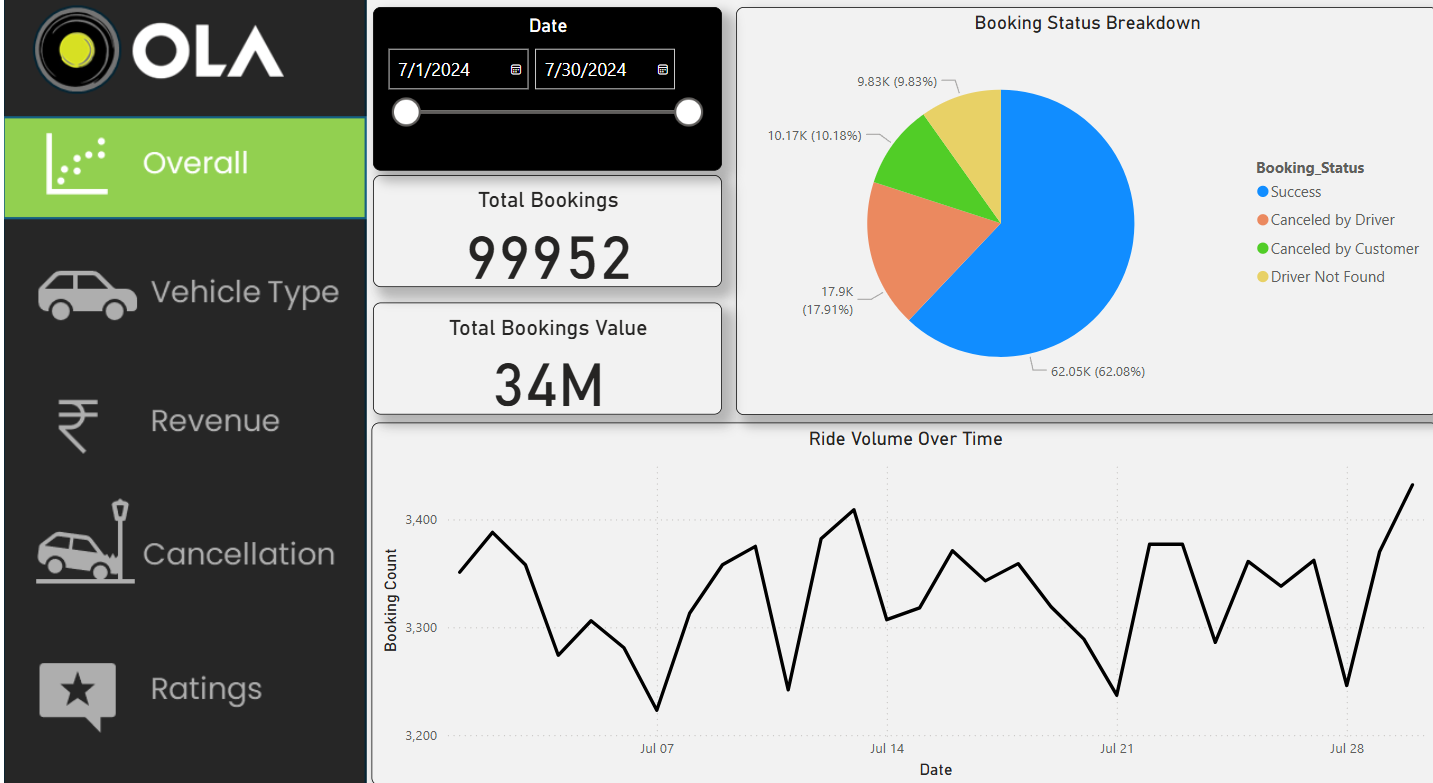

What the dashboard file says about the page in this screenshot:
{"tool":"powerbi","page":{"name":"Overall","canvas":[1280,720],"ordinal":0},"visuals":[{"type":"actionButton","box":[1.6,201.9,327.4,125.6],"z":0},{"type":"lineChart","title":"Ride Volume Over Time","fields":{"Category":["July.Date"],"Y":["CountNonNull(July.Booking_ID)"]},"box":[327.4,384.6,952.1,324.2],"z":1000},{"type":"pieChart","title":"Booking Status Breakdown","fields":{"Category":["July.Booking_Status"],"Y":["CountNonNull(July.Booking_Status)"]},"box":[653.2,12.7,626.2,364],"z":2000},{"type":"slicer","title":"Date","fields":{"Values":["July.Date"]},"box":[329,12.7,311.5,146.2],"z":3000},{"type":"card","title":"Total Bookings","fields":{"Values":["Count(July.Booking_ID)"]},"box":[329,163.7,311.5,100.1],"z":4000},{"type":"card","title":"Total Bookings Value","fields":{"Values":["Sum(July.Booking_Value)"]},"box":[329,276.6,311.5,100.1],"z":5000},{"type":"actionButton","box":[0,321.1,327.4,125.6],"z":6000},{"type":"actionButton","box":[0,435.5,327.4,125.6],"z":7000},{"type":"actionButton","box":[0,546.8,327.4,125.6],"z":8000},{"type":"actionButton","box":[0,200.3,327.4,125.6],"z":9000},{"type":"actionButton","box":[0,85.8,327.4,116],"z":10000}]}

Visuals, with their boxes in screenshot pixels (x1, y1, x2, y2), scaled from the page's 1280x720 canvas onto the 1433x783 screenshot:
actionButton: 2 220 368 356
"Ride Volume Over Time" lineChart: 367 418 1432 771
"Booking Status Breakdown" pieChart: 731 14 1432 410
"Date" slicer: 368 14 717 173
"Total Bookings" card: 368 178 717 287
"Total Bookings Value" card: 368 301 717 410
actionButton: 0 349 367 486
actionButton: 0 474 367 610
actionButton: 0 595 367 731
actionButton: 0 218 367 354
actionButton: 0 93 367 219
